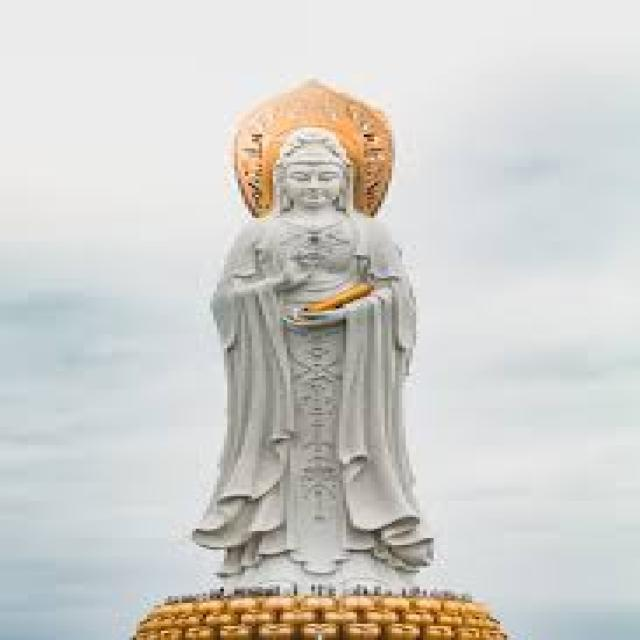Guan Yin: (210, 128, 415, 527)
